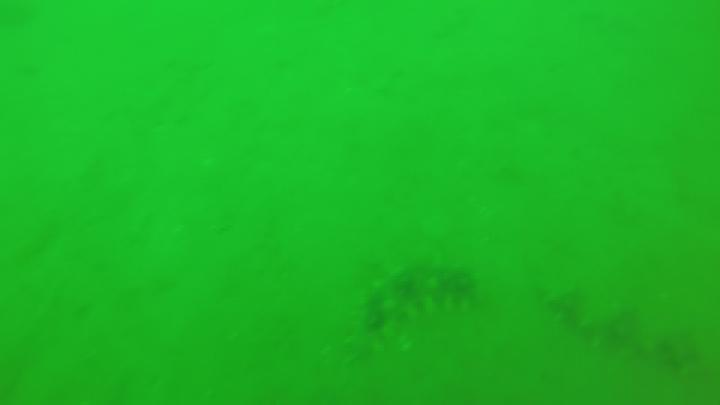holothurian: (549, 287, 705, 380), (343, 257, 471, 362)
